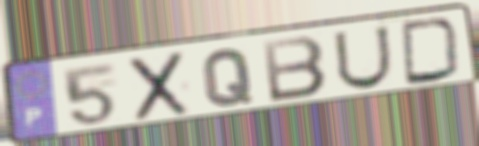5: (59, 61, 122, 129)
B: (259, 34, 330, 105)
D: (398, 16, 465, 87)
Q: (200, 47, 256, 109)
U: (331, 24, 395, 92)
X: (127, 49, 192, 124)
